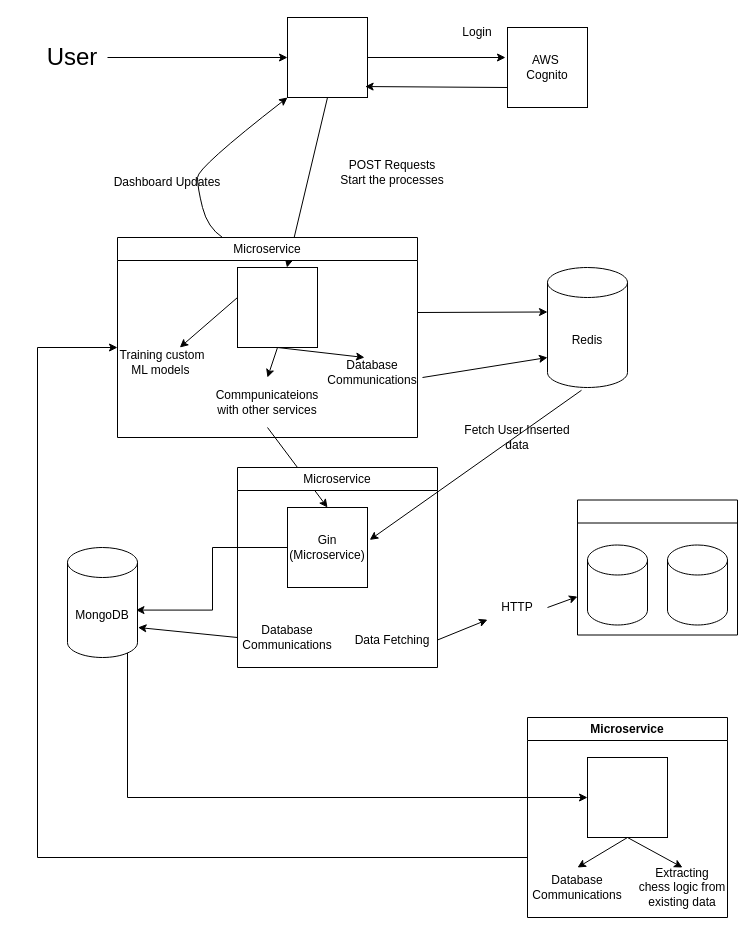
This 755x935 diagram has some shape labels left out. Here are the shapes that lost their labels. From the top down, the box of each, then its label:
(286, 16, 368, 98): Website (Next.js)
(236, 266, 318, 348): FastAPI
(576, 499, 738, 635): Chess.com Public API
(586, 756, 668, 838): C++ backend
